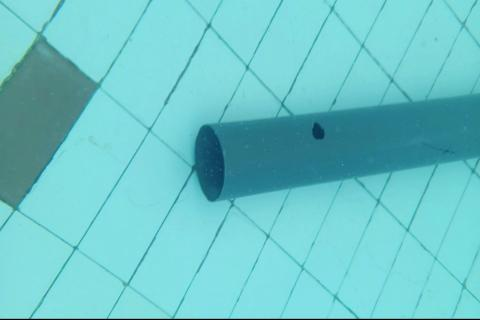kebocoran: (311, 121, 325, 140)
keretakan: (423, 142, 459, 156)
